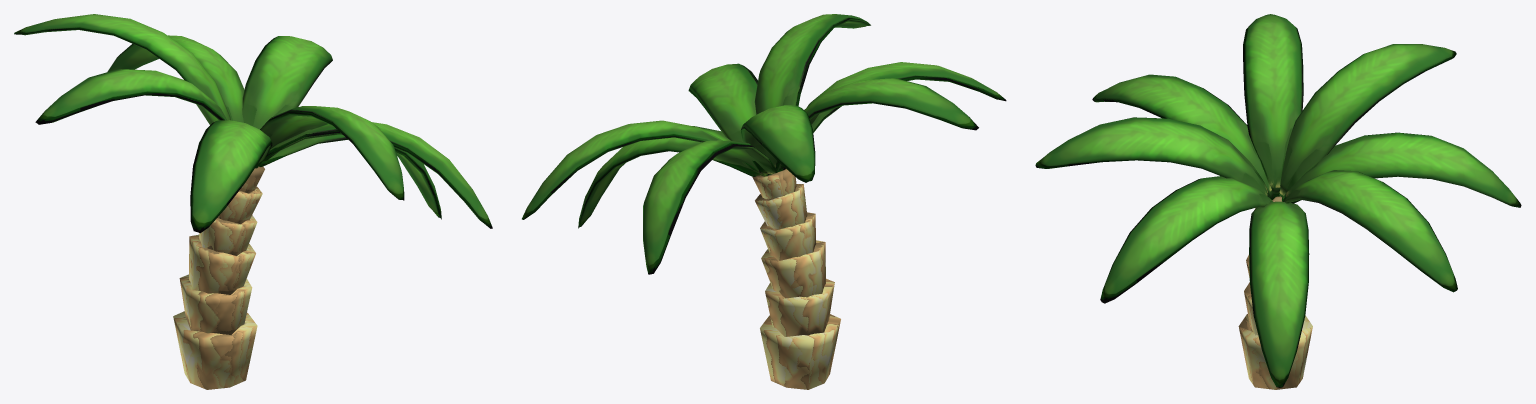
The model's file is palmtree.glb.
The picture shows the model from 3 angles, left to right: view 1: azimuth 30°, elevation 25°; view 2: azimuth 150°, elevation 25°; view 3: azimuth 270°, elevation 25°; orthographic projection. The views are drawn at different scales.
Visible parts, largest first — view 1: sorry_palmtree; view 2: sorry_palmtree; view 3: sorry_palmtree.
Part boxes in pixels (x1,y1,x2,y2): sorry_palmtree: (14, 14, 492, 389); sorry_palmtree: (522, 14, 1006, 389); sorry_palmtree: (1035, 14, 1521, 389).
Bounding box in the file's own units: 4.37 × 3.32 × 4.81.
Materials: 1 (1 with a texture image).
